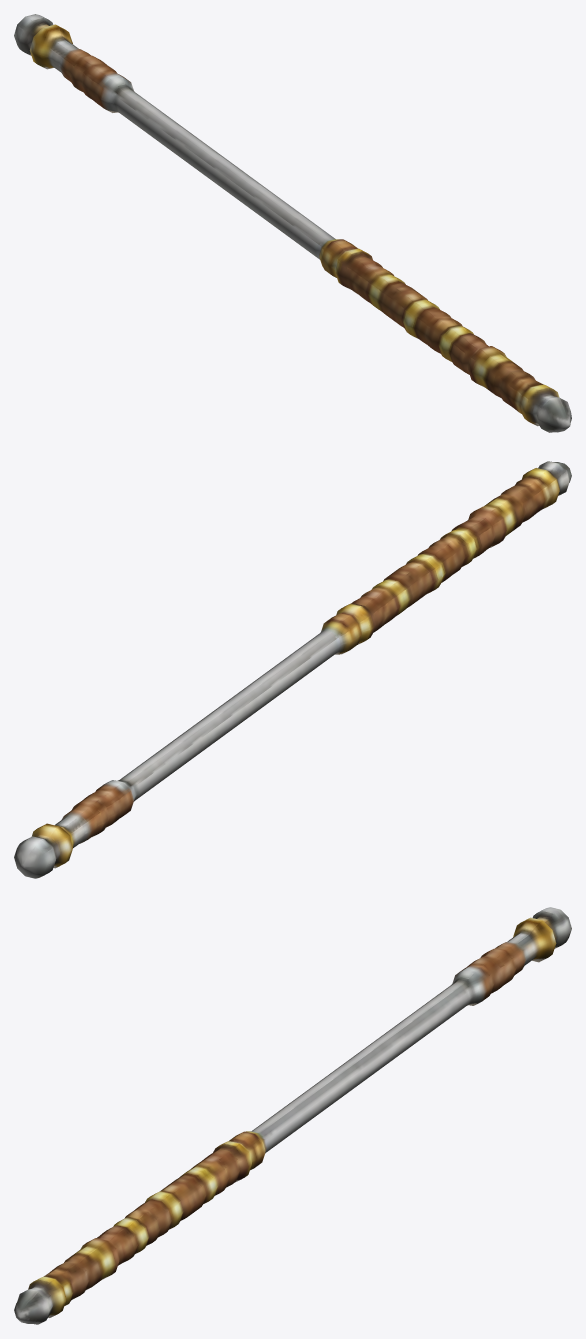
The model's file is item_mm9_10078.glb.
3 views of the same model, one above another, from view 1: azimuth 30°, elevation 25°; view 2: azimuth 150°, elevation 25°; view 3: azimuth 330°, elevation 25° (orthographic).
Parts seen in each view (by area): view 1: d10078; view 2: d10078; view 3: d10078.
Boxes of the visible parts, x1,y1,x2,y2 form: d10078: (14,14,571,432); d10078: (14,461,571,878); d10078: (14,907,571,1324).
Bounding box in the file's own units: 10.82 × 10.29 × 259.
1 material, 1 textured.
